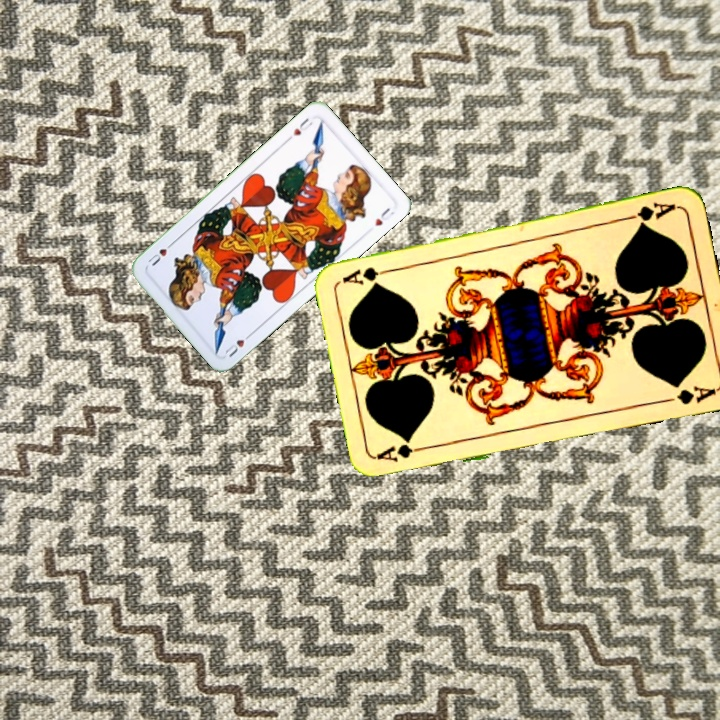GA: (621, 198, 680, 229), (373, 438, 433, 465)
HU: (221, 329, 255, 360), (283, 114, 315, 143)
